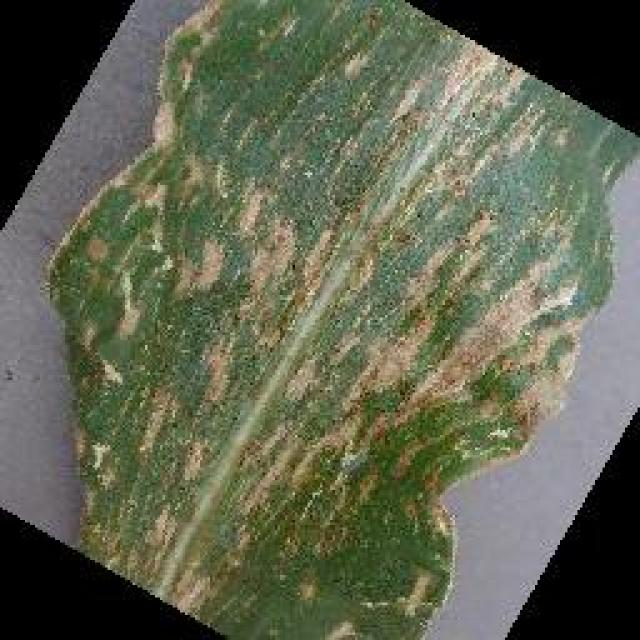Corn_Grey_Leaf_Spot: (140, 60, 472, 548)
